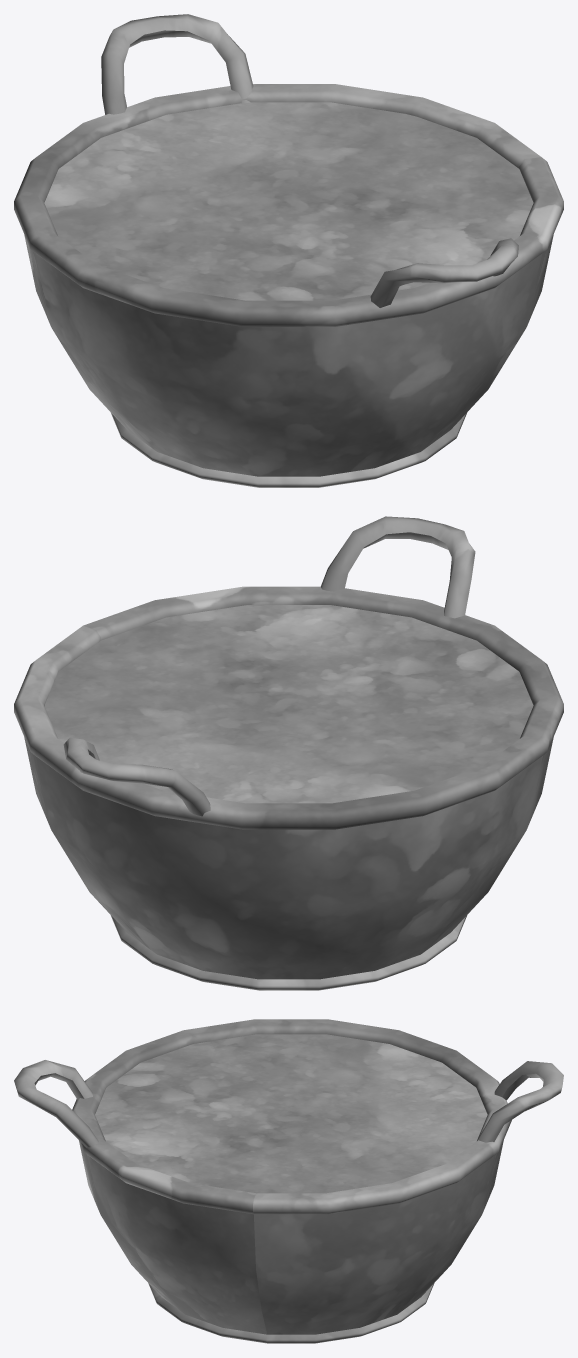
The model's file is SM_WickerBasket_01e.fbx.
3 views of the same model, one above another, from view 1: azimuth 30°, elevation 25°; view 2: azimuth 150°, elevation 25°; view 3: azimuth 270°, elevation 25° (orthographic). The views are drawn at different scales.
Visible parts, largest first — view 1: SM_WickerBasket_01e_LOD0; view 2: SM_WickerBasket_01e_LOD0; view 3: SM_WickerBasket_01e_LOD0.
Part boxes in pixels (bbox=[...]): SM_WickerBasket_01e_LOD0: bbox=[14, 14, 563, 487]; SM_WickerBasket_01e_LOD0: bbox=[14, 516, 563, 990]; SM_WickerBasket_01e_LOD0: bbox=[14, 1019, 563, 1343].
Bounding box in the file's own units: 56.64 × 71.65 × 31.29.
